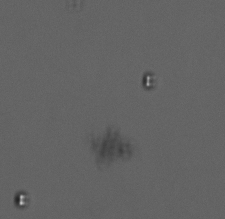Living Cell: (13, 191, 31, 208), (143, 73, 157, 90)
